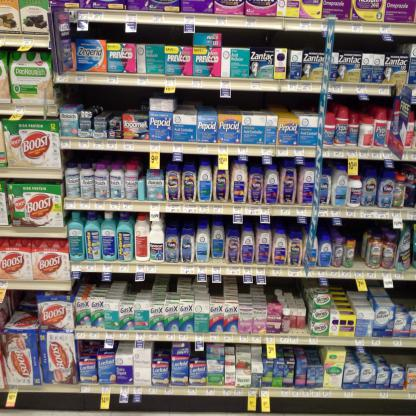Void: (224, 29, 322, 49), (140, 23, 184, 45), (334, 35, 381, 53), (90, 21, 124, 39), (11, 292, 37, 315), (396, 280, 415, 302), (356, 228, 364, 271), (211, 286, 221, 296), (128, 284, 139, 293)
